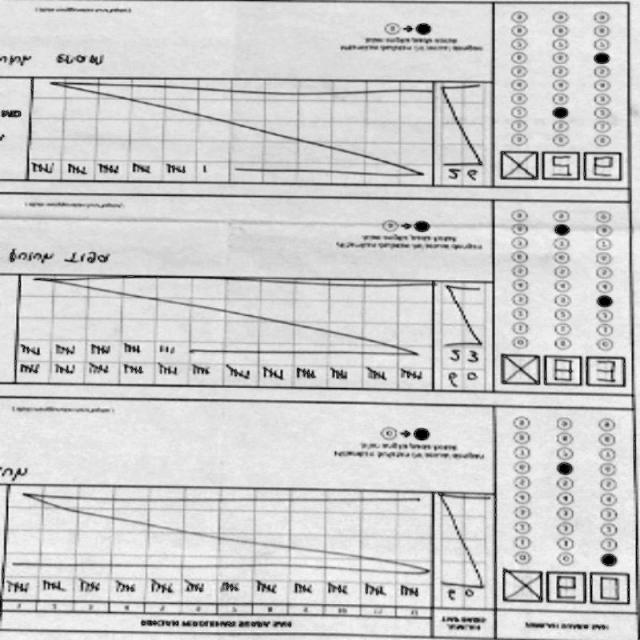Suara: (494, 352, 632, 390), (492, 150, 629, 188), (498, 569, 634, 607)
